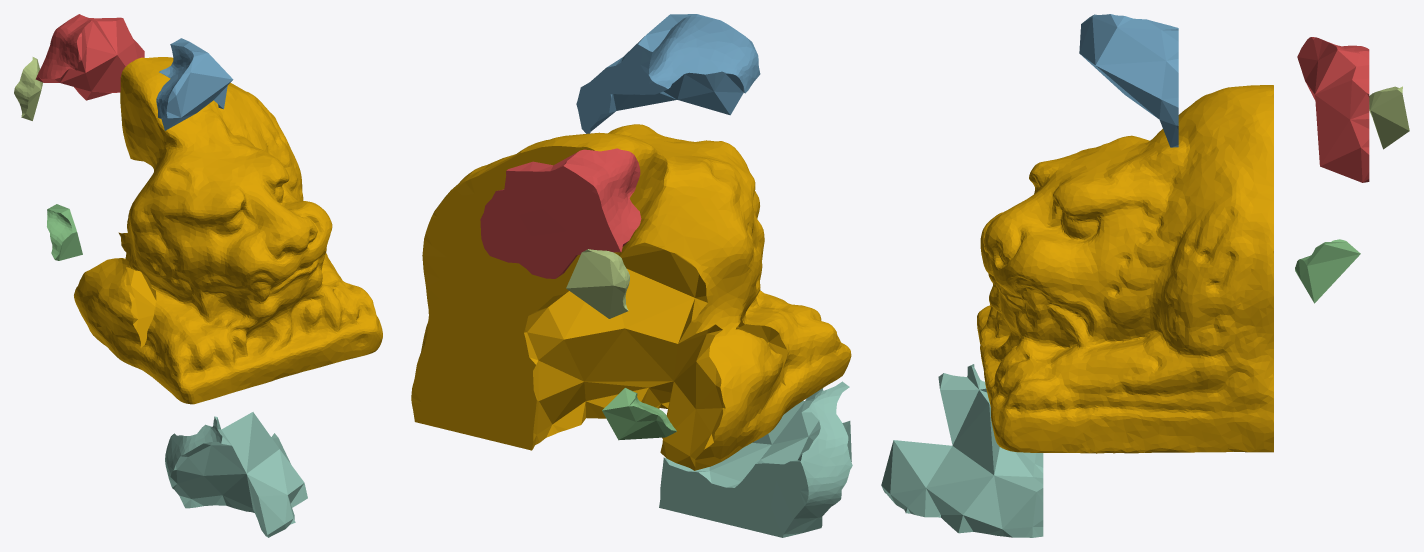
Rendered from fractured_12_6pcs_transformed.glb.
The picture shows the model from 3 angles, left to right: view 1: azimuth 30°, elevation 25°; view 2: azimuth 150°, elevation 25°; view 3: azimuth 270°, elevation 25°; orthographic projection. The views are drawn at different scales.
Parts seen in each view (by area): view 1: piece_0.obj, piece_4.obj, piece_1.obj, piece_2.obj, piece_3.obj, piece_5.obj; view 2: piece_0.obj, piece_4.obj, piece_1.obj, piece_2.obj, piece_5.obj, piece_3.obj; view 3: piece_0.obj, piece_4.obj, piece_2.obj, piece_1.obj, piece_3.obj, piece_5.obj.
Boxes of the visible parts, <box> form: piece_0.obj: <box>74,57,382,404</box>; piece_4.obj: <box>165,412,307,537</box>; piece_1.obj: <box>35,14,144,100</box>; piece_2.obj: <box>156,38,233,130</box>; piece_3.obj: <box>47,204,82,260</box>; piece_5.obj: <box>14,57,42,120</box>; piece_0.obj: <box>411,124,851,470</box>; piece_4.obj: <box>659,381,852,537</box>; piece_1.obj: <box>480,148,641,278</box>; piece_2.obj: <box>576,14,760,133</box>; piece_5.obj: <box>566,249,629,318</box>; piece_3.obj: <box>602,388,676,440</box>; piece_0.obj: <box>977,85,1273,453</box>; piece_4.obj: <box>881,364,1043,537</box>; piece_2.obj: <box>1079,14,1178,147</box>; piece_1.obj: <box>1297,37,1369,182</box>; piece_3.obj: <box>1295,239,1360,303</box>; piece_5.obj: <box>1369,86,1409,149</box>.
Bounding box in the file's own units: 0.966 × 1.7 × 1.66.
